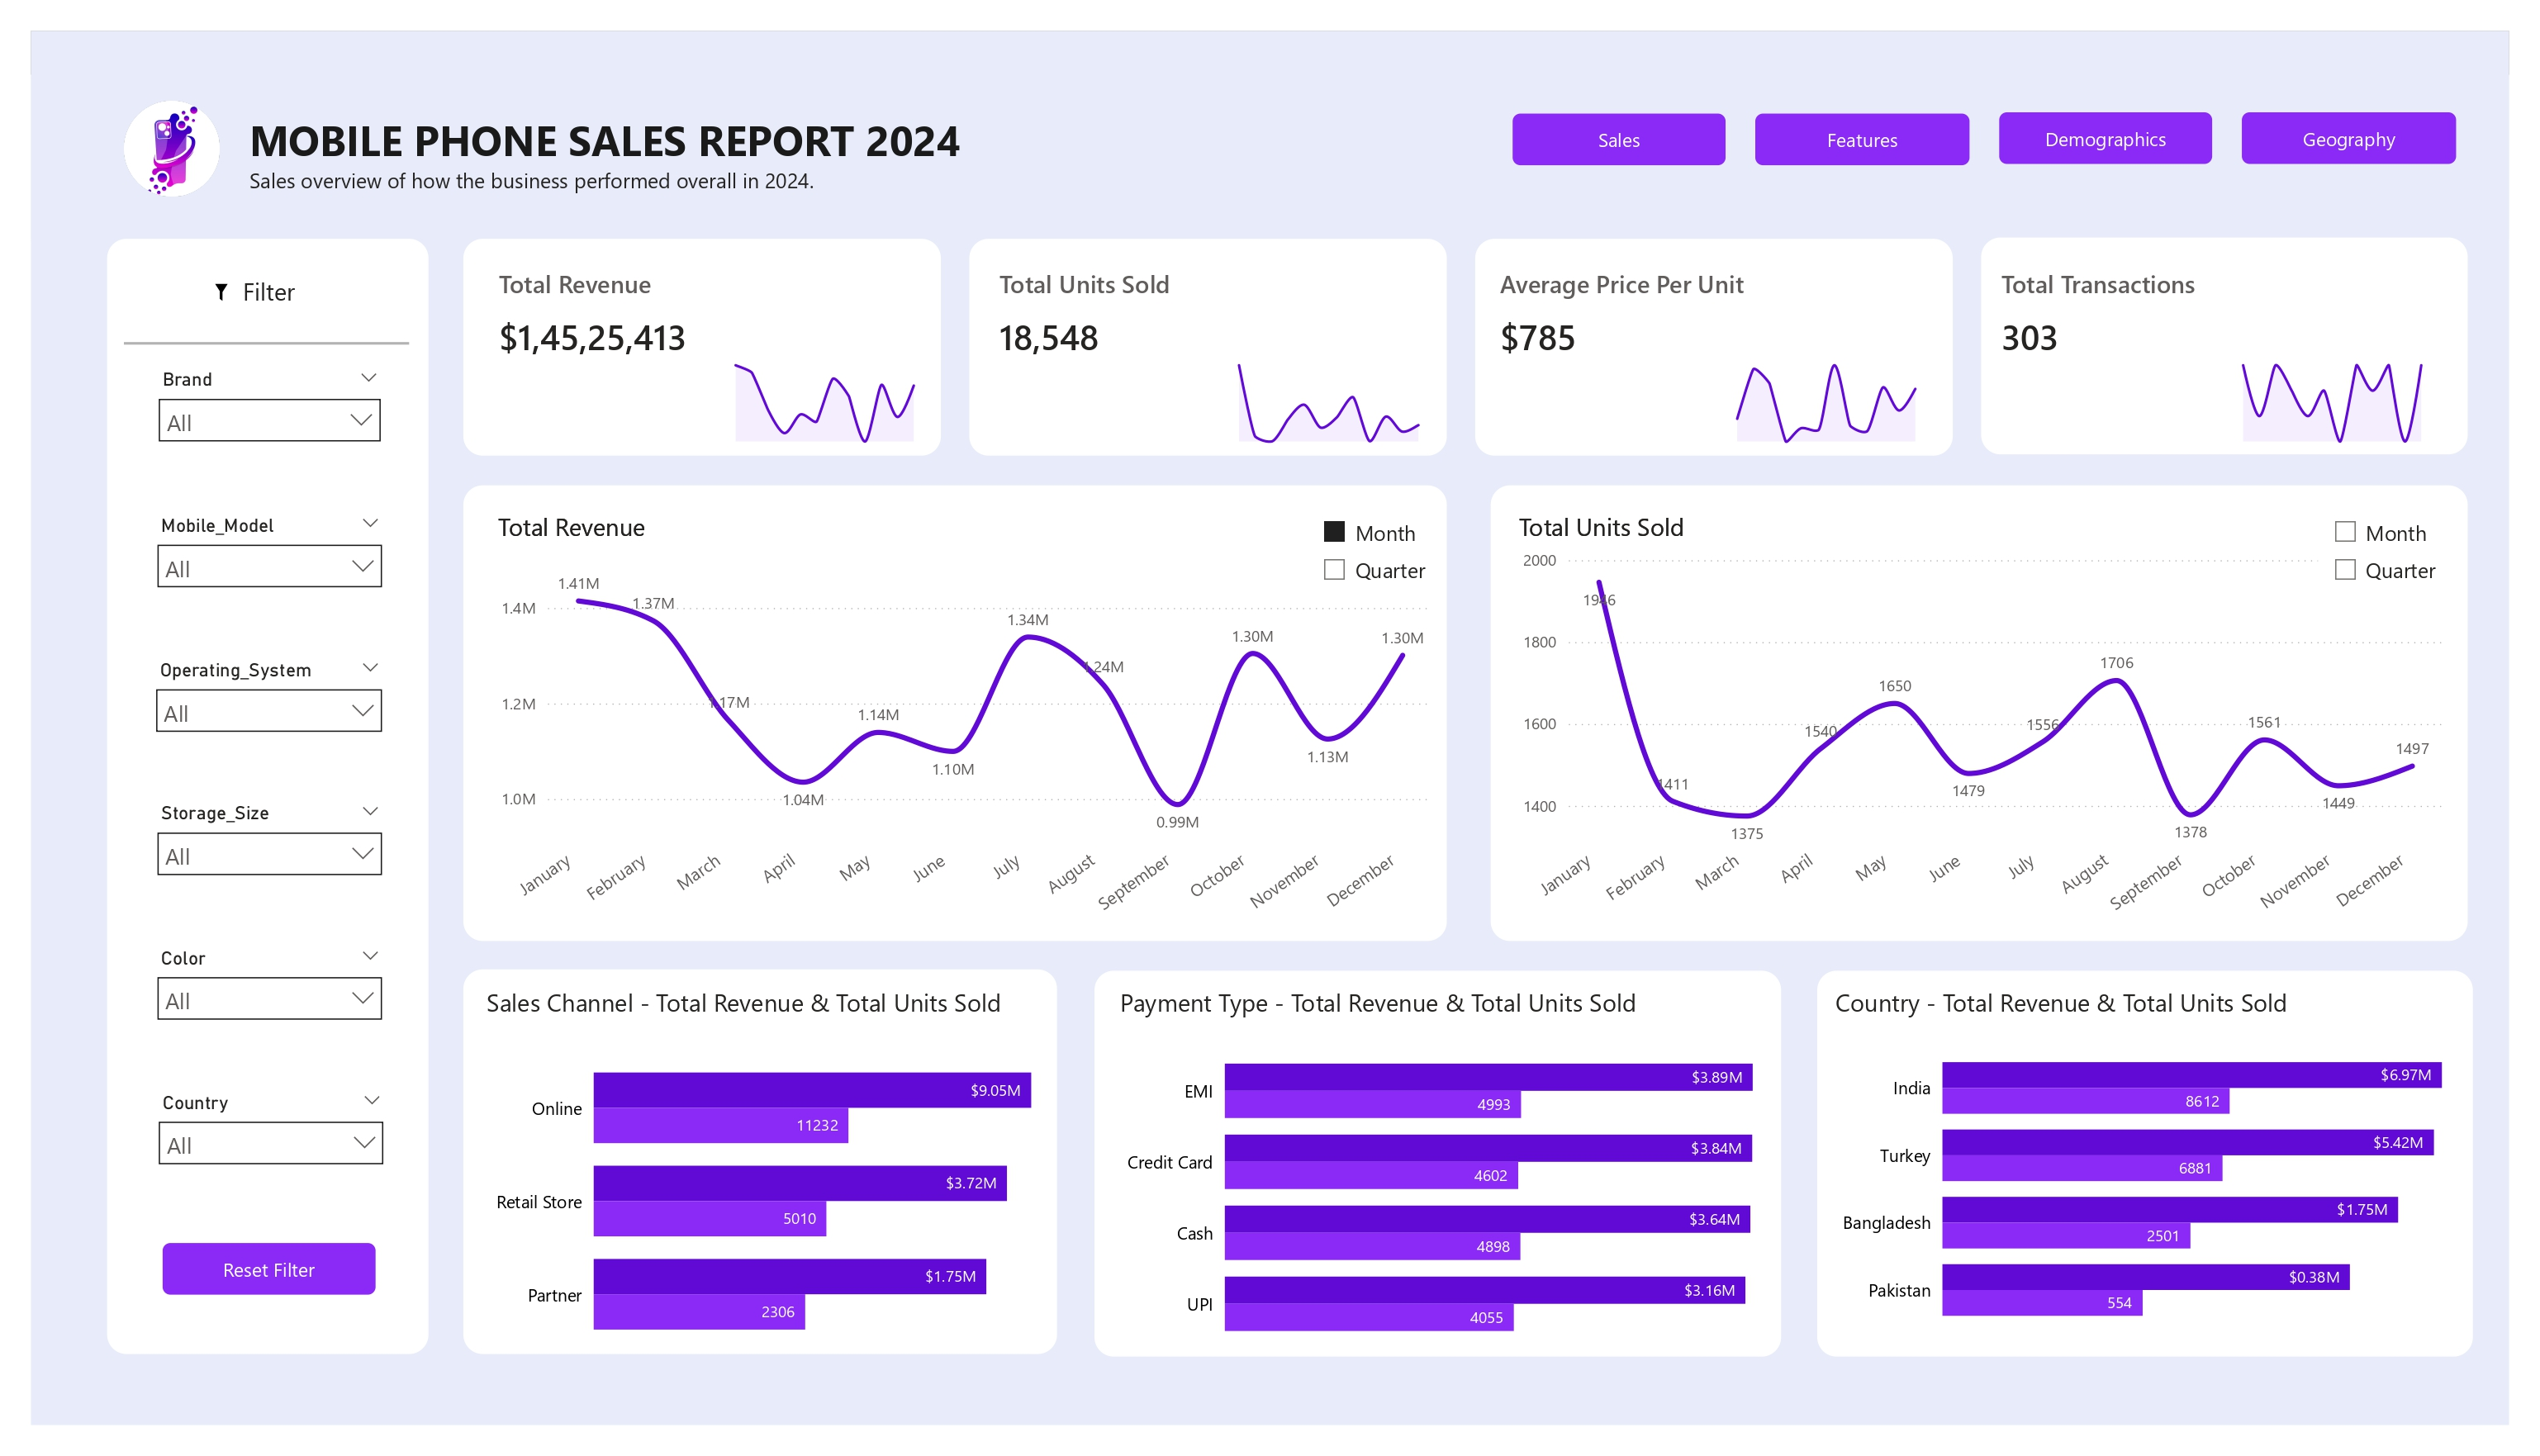

The dashboard page shown, as its layout file describes it:
{"tool":"powerbi","page":{"name":"Sales","canvas":[1920,1080],"ordinal":0},"visuals":[{"type":"textbox","title":"Filter","box":[334.7,161.3,370.7,168],"z":1000},{"type":"textbox","title":"Filter","box":[726.7,161.3,370.7,168],"z":2000},{"type":"textbox","title":"Filter","box":[1118.7,161.3,370.7,168],"z":3000},{"type":"textbox","box":[164,57,616,76],"z":4000,"group":"g1"},{"type":"textbox","title":"Filter","box":[1510.7,160,377.3,168],"z":4000},{"type":"textbox","title":"Filter","box":[824,728,532,298.7],"z":5000},{"type":"textbox","title":"Filter","box":[1384,728,508,298.7],"z":6000},{"type":"textbox","title":"Filter","box":[334.7,726.7,460,298.7],"z":7000},{"type":"textbox","title":"Filter","box":[1130.7,352,757.3,353.3],"z":8000},{"type":"textbox","title":"Filter","box":[334.7,352,762.7,353.3],"z":9000},{"type":"textbox","title":"Filter","box":[58.7,161.3,249.3,864],"z":10000},{"type":"funnel","title":"Total Revenue","fields":{"Category":["Fact_Sales.Transaction_Date.Variation.Date Hierarchy.Quarter"],"Y":["ToggleTable.Revenue_Quarter"]},"box":[357.3,370.7,733.3,314.7],"z":11000},{"type":"slicer","fields":{"Values":["Dim_Products.Brand"]},"box":[88.5,257.2,192.9,71.8],"z":12000},{"type":"slicer","fields":{"Values":["Dim_Products.Operating_System"]},"box":[87.4,481.7,194.2,70.5],"z":13000},{"type":"slicer","fields":{"Values":["Dim_Products.Storage_Size"]},"box":[87.9,593.3,193.7,70.5],"z":14000},{"type":"slicer","fields":{"Values":["Dim_Products.Color"]},"box":[87.9,705,193.7,70.5],"z":15000},{"type":"slicer","fields":{"Values":["Dim_Products.Mobile_Model"]},"box":[87.9,370.1,193.7,70.5],"z":16000},{"type":"slicer","fields":{"Values":["Dim_Locations.Country"]},"box":[88.5,816.6,194.2,70],"z":17000},{"type":"actionButton","box":[102.4,939,164.9,39.9],"z":20000},{"type":"cardVisual","fields":{"Data":["Fact_Sales.Total Revenue","Fact_Sales.Total Units Sold","Fact_Sales.Average Price Per Unit","Fact_Sales.Total Transactions"]},"box":[334.7,168,1553.3,161.3],"z":22000},{"type":"clusteredBarChart","title":"Sales Channel - Total Revenue & Total Units Sold","fields":{"Category":["Fact_Sales.Sales_Channel"],"Y":["Sum(Fact_Sales.Total_Revenue)","Sum(Fact_Sales.Units_Sold)"]},"box":[348,740,432,302.7],"z":23000},{"type":"lineChart","title":"Total Revenue","fields":{"Category":["Fact_Sales.Transaction_Date.Variation.Date Hierarchy.Month"],"Y":["ToggleTable.Revenue_Month"]},"box":[357.3,370.7,733.3,334.7],"z":24000},{"type":"columnChart","title":"Total Units Sold","fields":{"Category":["Fact_Sales.Transaction_Date.Variation.Date Hierarchy.Quarter"],"Y":["ToggleTable.UnitsSold_Quarter"]},"box":[1148,370.7,725.3,324],"z":25000},{"type":"lineChart","title":"Total Units Sold","fields":{"Category":["Fact_Sales.Transaction_Date.Variation.Date Hierarchy.Month"],"Y":["ToggleTable.UnitsSold_Month"]},"box":[1148,370.7,725.3,334.7],"z":26000},{"type":"slicer","fields":{"Values":["ToggleTable.ViewBy"]},"box":[1772,369.3,101.3,70.7],"z":27000},{"type":"clusteredBarChart","title":"Payment Type - Total Revenue & Total Units Sold","fields":{"Y":["Sum(Fact_Sales.Total_Revenue)","Sum(Fact_Sales.Units_Sold)"],"Category":["Fact_Sales.Payment_Type"]},"box":[838.7,740,500,296],"z":28000},{"type":"clusteredBarChart","title":"Country - Total Revenue & Total Units Sold","fields":{"Y":["Sum(Fact_Sales.Total_Revenue)","Sum(Fact_Sales.Units_Sold)"],"Category":["Dim_Locations.Country"]},"box":[1393.3,740,480,282.7],"z":29000},{"type":"shape","box":[72,166.7,221.3,150.7],"z":30000},{"type":"slicer","fields":{"Values":["ToggleTable.ViewBy"]},"box":[989.3,369.3,101.3,70.7],"z":31000},{"type":"group","id":"g1","title":"Group 1","box":[164,57,616,76],"z":32000},{"type":"PBI_CV_25997FEB_F466_44FA_B562_AC4063283C4C","fields":{"axis":["Fact_Sales.Transaction_Date.Variation.Date Hierarchy.Month"],"measure":["Sum(Fact_Sales.Total_Revenue)"]},"box":[528.2,241.7,177.9,86.9],"z":33000},{"type":"PBI_CV_25997FEB_F466_44FA_B562_AC4063283C4C","fields":{"axis":["Fact_Sales.Transaction_Date.Variation.Date Hierarchy.Month"],"measure":["Sum(Fact_Sales.Units_Sold)"]},"box":[918.4,241.7,178.6,87.3],"z":34000},{"type":"PBI_CV_25997FEB_F466_44FA_B562_AC4063283C4C","fields":{"axis":["Fact_Sales.Transaction_Date.Variation.Date Hierarchy.Month"],"measure":["Sum(Fact_Sales.Price)"]},"box":[1303.7,241.7,178.6,87.3],"z":35000},{"type":"PBI_CV_25997FEB_F466_44FA_B562_AC4063283C4C","fields":{"axis":["Fact_Sales.Transaction_Date.Variation.Date Hierarchy.Month"],"measure":["Count(Fact_Sales.Transaction_ID)"]},"box":[1696,242,177.9,86.9],"z":36000},{"type":"actionButton","box":[1524.9,62.7,165.3,40],"z":37000},{"type":"actionButton","box":[1148,64,165.3,40],"z":38000},{"type":"actionButton","box":[1713.3,62.7,165.3,40],"z":39000},{"type":"actionButton","box":[1336.4,64,165.3,40],"z":40000},{"type":"image","box":[0,49.3,217.3,84],"z":40001},{"type":"image","box":[109.3,189.3,76,26.7],"z":40002}]}

Visuals, with their boxes on the page's 1920x1080 design canvas (x1, y1, x2, y2). These are canvas units, not pixel positions in the 2540x1456 screenshot, which may show the page scaled, cropped or inside an application window:
"Filter" textbox: [335,161,705,329]
"Filter" textbox: [727,161,1097,329]
"Filter" textbox: [1119,161,1489,329]
textbox: [164,57,780,133]
"Filter" textbox: [1511,160,1888,328]
"Filter" textbox: [824,728,1356,1027]
"Filter" textbox: [1384,728,1892,1027]
"Filter" textbox: [335,727,795,1025]
"Filter" textbox: [1131,352,1888,705]
"Filter" textbox: [335,352,1097,705]
"Filter" textbox: [59,161,308,1025]
"Total Revenue" funnel: [357,371,1091,685]
slicer - Dim_Products.Brand: [88,257,281,329]
slicer - Dim_Products.Operating_System: [87,482,282,552]
slicer - Dim_Products.Storage_Size: [88,593,282,664]
slicer - Dim_Products.Color: [88,705,282,776]
slicer - Dim_Products.Mobile_Model: [88,370,282,441]
slicer - Dim_Locations.Country: [88,817,283,887]
actionButton: [102,939,267,979]
cardVisual - Fact_Sales.Total Revenue x Fact_Sales.Total Units Sold: [335,168,1888,329]
"Sales Channel - Total Revenue & Total Units Sold" clusteredBarChart: [348,740,780,1043]
"Total Revenue" lineChart: [357,371,1091,705]
"Total Units Sold" columnChart: [1148,371,1873,695]
"Total Units Sold" lineChart: [1148,371,1873,705]
slicer - ToggleTable.ViewBy: [1772,369,1873,440]
"Payment Type - Total Revenue & Total Units Sold" clusteredBarChart: [839,740,1339,1036]
"Country - Total Revenue & Total Units Sold" clusteredBarChart: [1393,740,1873,1023]
shape: [72,167,293,317]
slicer - ToggleTable.ViewBy: [989,369,1091,440]
"Group 1" group: [164,57,780,133]
PBI_CV_25997FEB_F466_44FA_B562_AC4063283C4C - Fact_Sales.Transaction_Date.Variation.Date Hierarchy.Month x Sum(Fact_Sales.Total_Revenue): [528,242,706,329]
PBI_CV_25997FEB_F466_44FA_B562_AC4063283C4C - Fact_Sales.Transaction_Date.Variation.Date Hierarchy.Month x Sum(Fact_Sales.Units_Sold): [918,242,1097,329]
PBI_CV_25997FEB_F466_44FA_B562_AC4063283C4C - Fact_Sales.Transaction_Date.Variation.Date Hierarchy.Month x Sum(Fact_Sales.Price): [1304,242,1482,329]
PBI_CV_25997FEB_F466_44FA_B562_AC4063283C4C - Fact_Sales.Transaction_Date.Variation.Date Hierarchy.Month x Count(Fact_Sales.Transaction_ID): [1696,242,1874,329]
actionButton: [1525,63,1690,103]
actionButton: [1148,64,1313,104]
actionButton: [1713,63,1879,103]
actionButton: [1336,64,1502,104]
image: [0,49,217,133]
image: [109,189,185,216]
